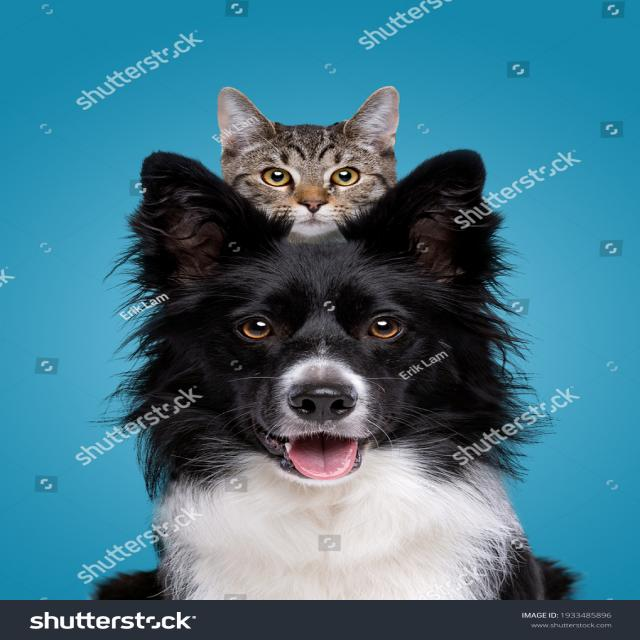cat: (198, 81, 422, 235)
dog: (134, 152, 542, 604)
